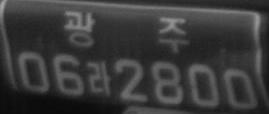0: (222, 67, 259, 110), (187, 62, 221, 107), (17, 50, 50, 93)
2: (112, 57, 148, 102)
6: (51, 53, 85, 97)
8: (150, 59, 185, 104)
광주_D: (63, 9, 191, 53)
라: (85, 60, 112, 96)
